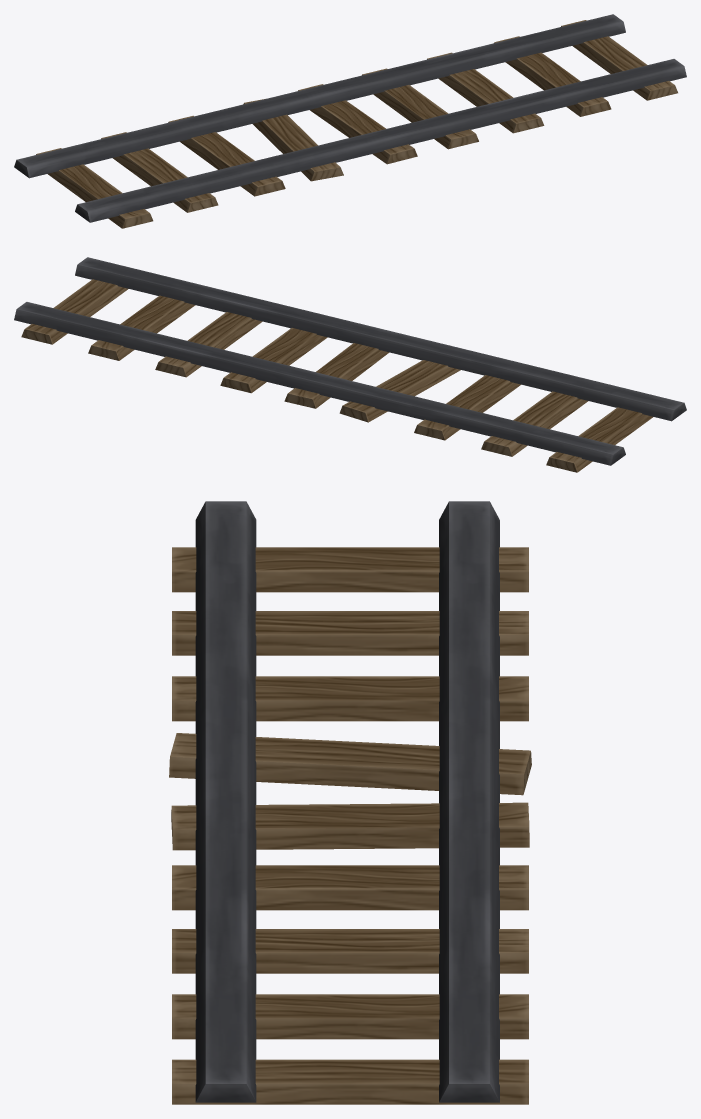
File: Mine_tracks1.fbx
3 renders of one model, top to bottom at view 1: azimuth 30°, elevation 25°; view 2: azimuth 150°, elevation 25°; view 3: azimuth 270°, elevation 25°, orthographic. The views are drawn at different scales.
Visible parts, largest first — view 1: polySurface1155; view 2: polySurface1155; view 3: polySurface1155.
Boxes of the visible parts, x1=… form: polySurface1155: x1=14, y1=14, x2=686, y2=228; polySurface1155: x1=14, y1=257, x2=686, y2=472; polySurface1155: x1=169, y1=501, x2=531, y2=1104.
Bounding box in the file's own units: 200 × 5.54 × 52.64.
Materials: 1 (1 with a texture image).
